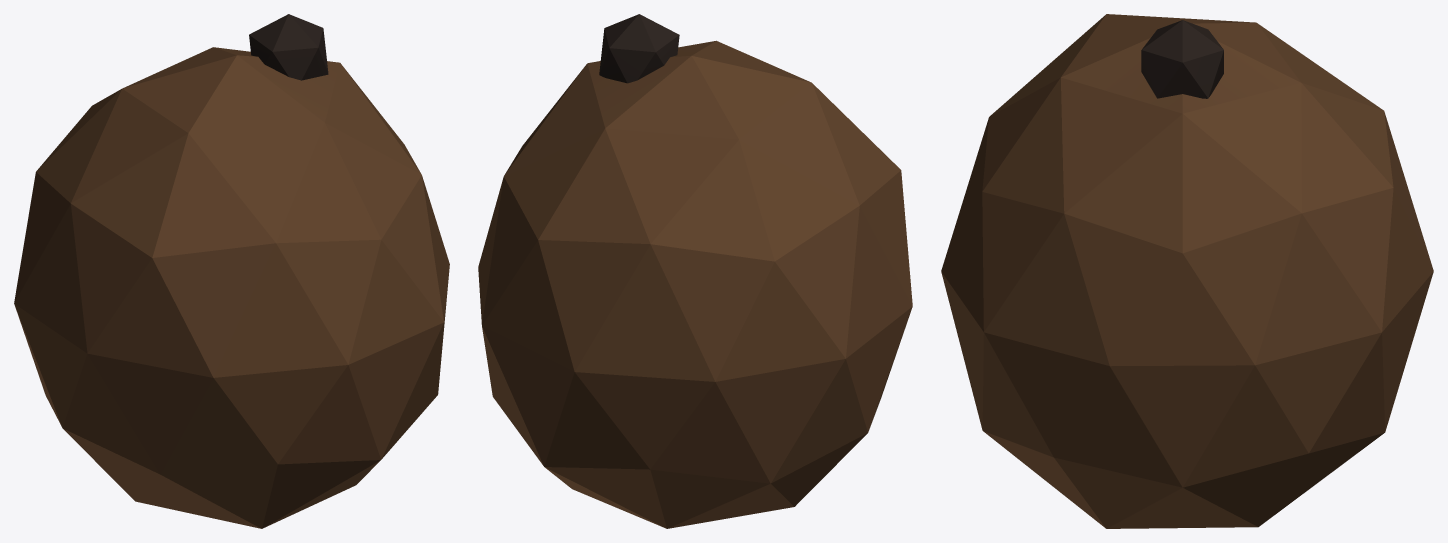
The model's file is CoconutItem.fbx.
3 views of the same model, side by side, from view 1: azimuth 30°, elevation 25°; view 2: azimuth 150°, elevation 25°; view 3: azimuth 270°, elevation 25° (orthographic). The views are drawn at different scales.
Visible parts, largest first — view 1: CoconutItem; view 2: CoconutItem; view 3: CoconutItem.
Part boxes in pixels (x1=…): CoconutItem: x1=14, y1=14, x2=449, y2=528; CoconutItem: x1=478, y1=14, x2=912, y2=528; CoconutItem: x1=941, y1=14, x2=1433, y2=528.
Bounding box in the file's own units: 0.2842 × 0.3582 × 0.3045.
